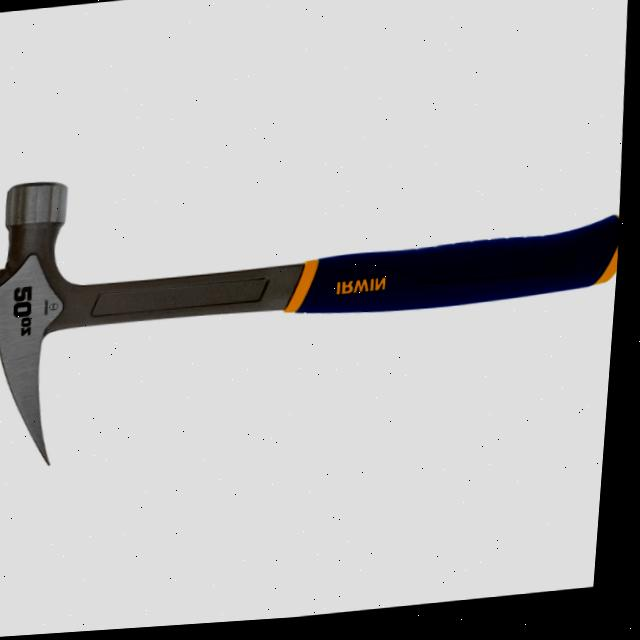hammer: (0, 122, 631, 483)
